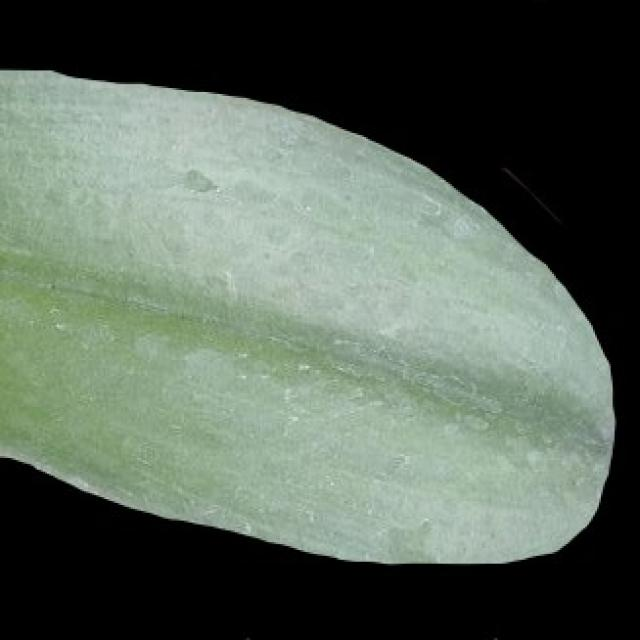mite: (188, 626, 528, 638), (474, 632, 509, 638)
spots: (0, 61, 618, 568)
